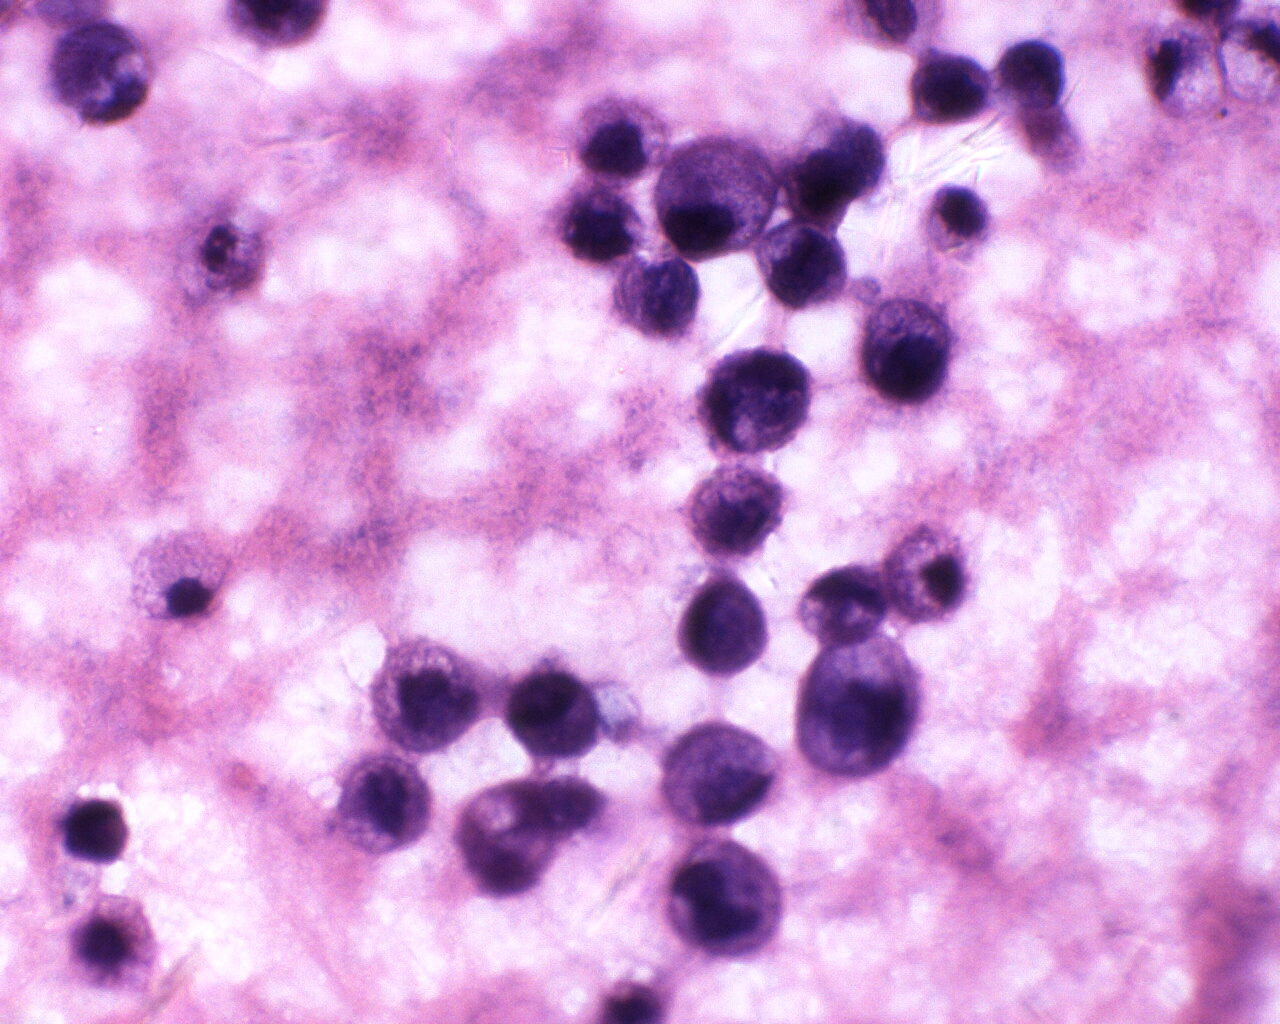ab: (793, 639, 922, 789), (368, 633, 488, 759), (668, 842, 791, 960), (861, 289, 959, 416), (671, 569, 777, 679), (334, 753, 433, 862), (502, 667, 605, 765), (753, 219, 850, 316), (571, 91, 668, 186), (553, 188, 650, 269), (907, 45, 993, 133), (60, 793, 138, 869)
histo: (653, 130, 784, 262), (127, 525, 232, 622)
